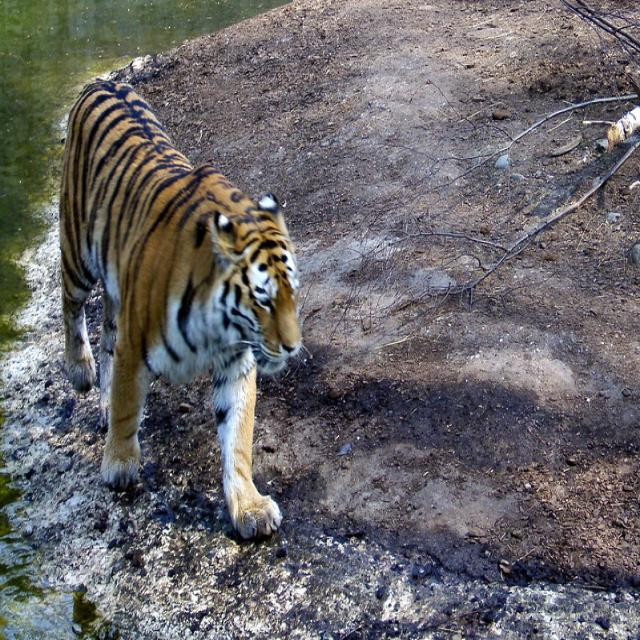Tiger: (56, 77, 302, 539)
